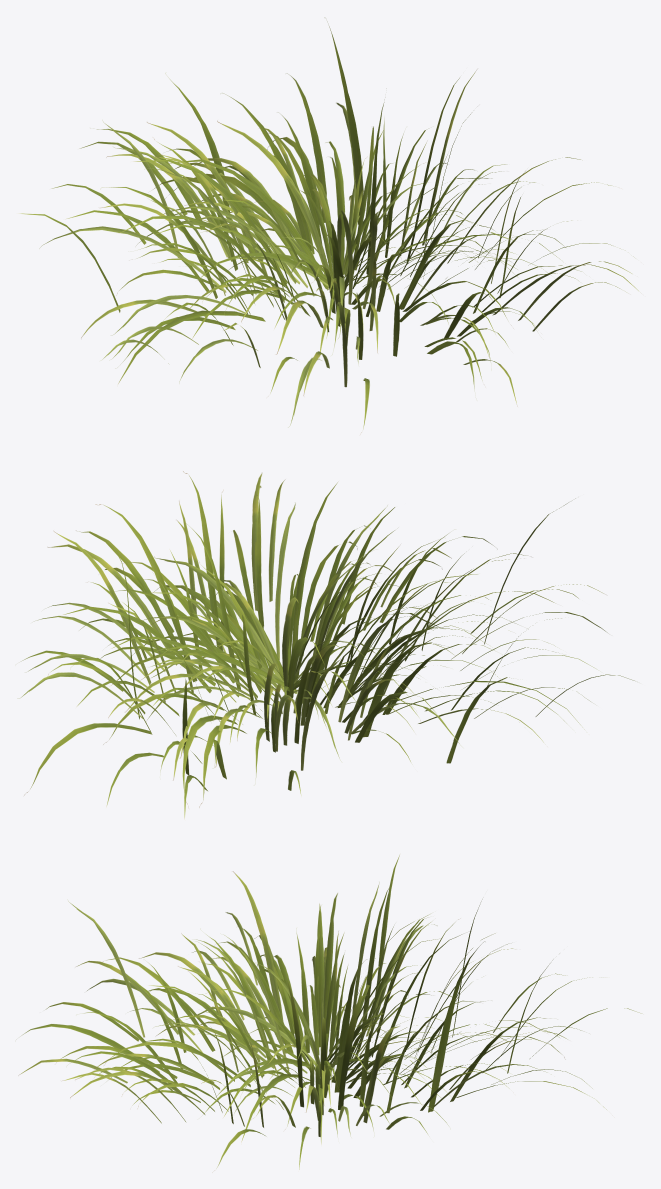
3 views of the same model, one above another, from view 1: azimuth 30°, elevation 25°; view 2: azimuth 150°, elevation 25°; view 3: azimuth 270°, elevation 25° (orthographic). The views are drawn at different scales.
Parts seen in each view (by area): view 1: grass_Shape_5; view 2: grass_Shape_5; view 3: grass_Shape_5.
Boxes of the visible parts, x1,y1,x2,y2 form: grass_Shape_5: [19, 17, 638, 432]; grass_Shape_5: [17, 471, 634, 818]; grass_Shape_5: [18, 855, 641, 1170].
Bounding box in the file's own units: 3.47 × 1.22 × 3.91.
1 material, 1 textured.
